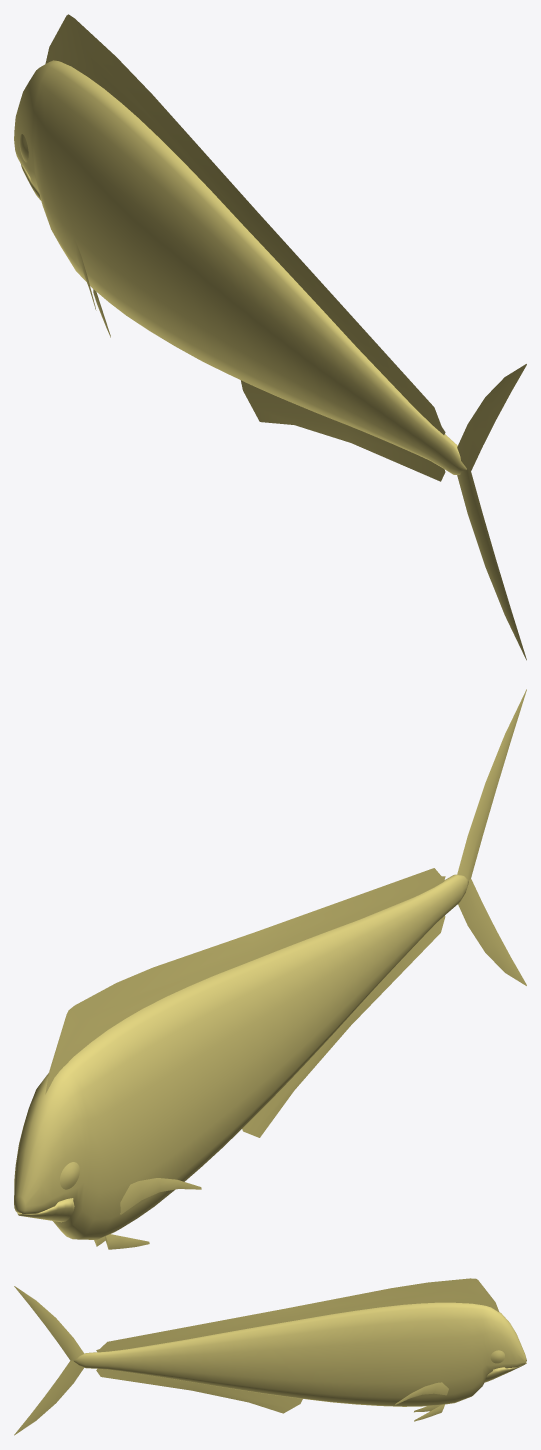
Rendered from mahi_mahi_game.glb.
The picture shows the model from 3 angles, top to bottom: view 1: azimuth 30°, elevation 25°; view 2: azimuth 150°, elevation 25°; view 3: azimuth 270°, elevation 25°; orthographic projection. The views are drawn at different scales.
Visible parts, largest first — view 1: mahi_mahi_game; view 2: mahi_mahi_game; view 3: mahi_mahi_game.
Part boxes in pixels (<box>): mahi_mahi_game: <box>14,14,526,660</box>; mahi_mahi_game: <box>14,689,526,1249</box>; mahi_mahi_game: <box>14,1278,526,1435</box>.
Bounding box in the file's own units: 0.1433 × 0.4046 × 1.2.
